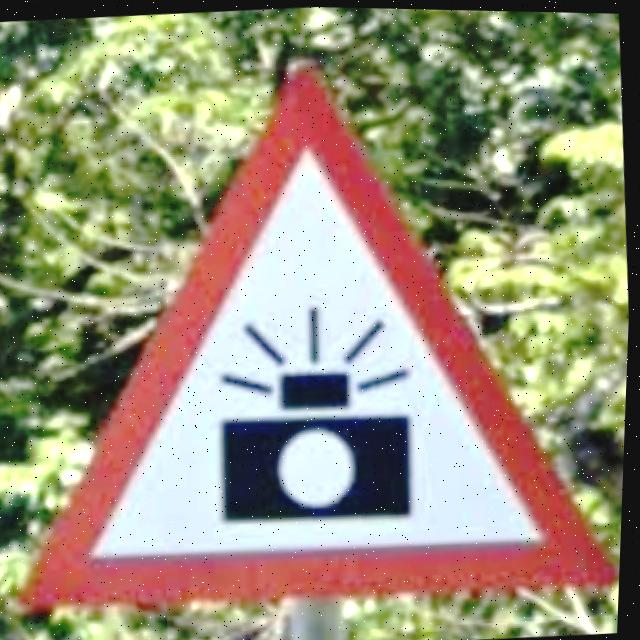speedcamera: (19, 62, 614, 607)
